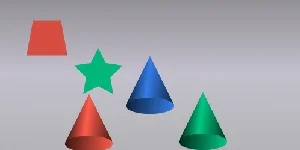五角星形: (74, 48, 122, 95)
圆锥体: (179, 91, 229, 150), (64, 93, 115, 150), (127, 57, 174, 115)
梯形: (25, 18, 69, 59)
